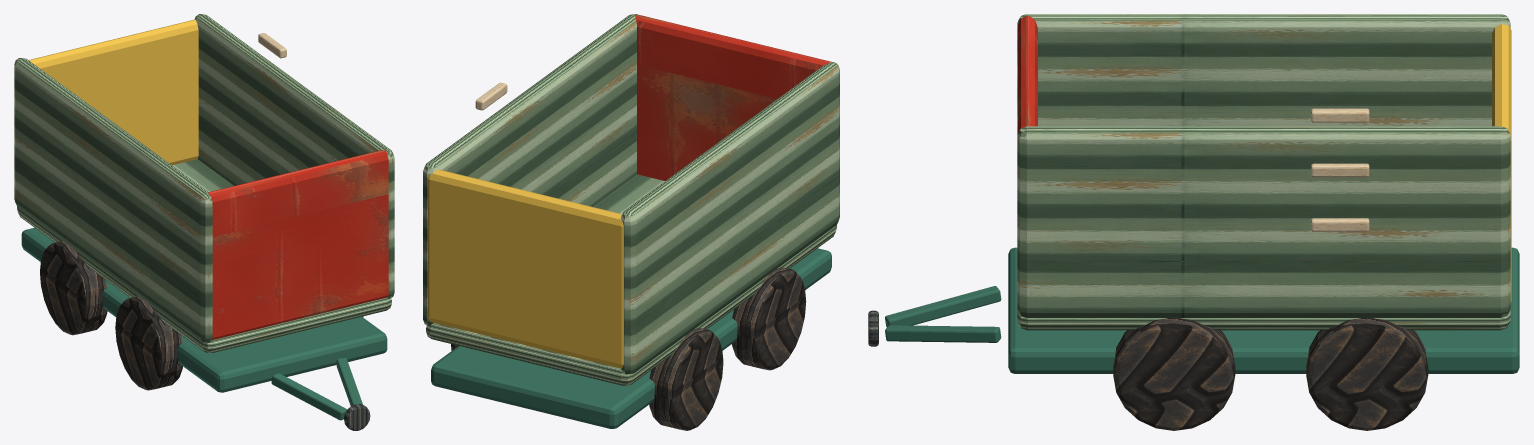
The model's file is bracken_grain_trailer.glb.
3 views of the same model, side by side, from view 1: azimuth 30°, elevation 25°; view 2: azimuth 150°, elevation 25°; view 3: azimuth 270°, elevation 25° (orthographic). The views are drawn at different scales.
Parts seen in each view (by area): view 1: Painted sage machinery.003, Painted warm red.002, Harvest gold.002, Deep green steel.002, Painted tyre rubber.001, Painted farm steel.001, Painted warm cream.003; view 2: Painted sage machinery.003, Harvest gold.002, Painted warm red.002, Deep green steel.002, Painted tyre rubber.001, Painted warm cream.003; view 3: Painted sage machinery.003, Painted tyre rubber.001, Deep green steel.002, Painted warm cream.003, Harvest gold.002, Painted warm red.002.
Part boxes in pixels (<box>): Painted sage machinery.003: <box>14,14,394,352</box>; Painted warm red.002: <box>208,150,388,339</box>; Harvest gold.002: <box>28,19,198,165</box>; Deep green steel.002: <box>21,227,387,420</box>; Painted tyre rubber.001: <box>40,241,363,390</box>; Painted farm steel.001: <box>344,404,370,430</box>; Painted warm cream.003: <box>258,33,286,58</box>; Painted sage machinery.003: <box>423,14,839,385</box>; Harvest gold.002: <box>427,169,623,368</box>; Painted warm red.002: <box>635,15,831,180</box>; Deep green steel.002: <box>431,248,831,428</box>; Painted tyre rubber.001: <box>451,267,806,430</box>; Painted warm cream.003: <box>475,82,507,110</box>; Painted sage machinery.003: <box>1017,14,1510,330</box>; Painted tyre rubber.001: <box>1113,318,1428,430</box>; Deep green steel.002: <box>885,247,1519,373</box>; Painted warm cream.003: <box>1311,108,1369,231</box>; Harvest gold.002: <box>1492,24,1511,302</box>; Painted warm red.002: <box>1018,16,1037,132</box>.
Size of the model in its own units: 3.36 by 3.94 by 7.26.
7 materials, 5 textured.
